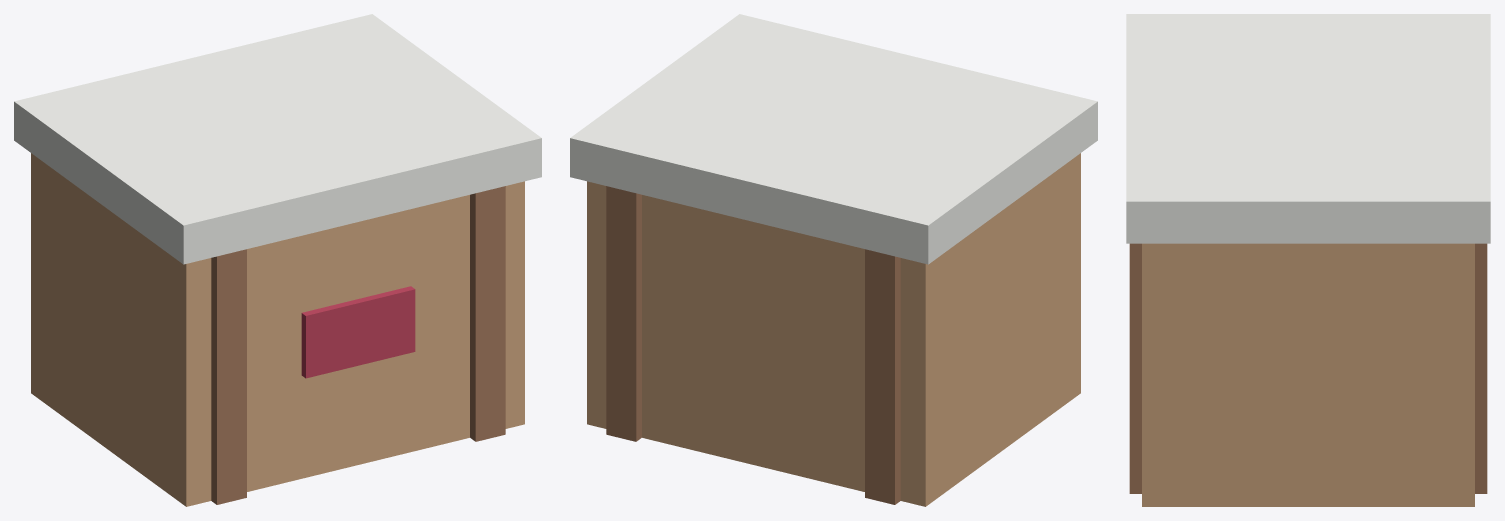
The model's file is winter-hearth-village-winter-supply-crate-b577131e__21847.glb.
3 renders of one model, left to right at view 1: azimuth 30°, elevation 25°; view 2: azimuth 150°, elevation 25°; view 3: azimuth 270°, elevation 25°, orthographic. The views are drawn at different scales.
Visible parts, largest first — view 1: winter-supply-crate-cedar, winter-supply-crate-snow, winter-supply-crate-wood, winter-supply-crate-red; view 2: winter-supply-crate-cedar, winter-supply-crate-snow, winter-supply-crate-wood; view 3: winter-supply-crate-cedar, winter-supply-crate-snow, winter-supply-crate-wood.
Boxes of the visible parts, <box> form: winter-supply-crate-cedar: <box>31,153,524,506</box>; winter-supply-crate-snow: <box>14,14,541,264</box>; winter-supply-crate-wood: <box>211,186,505,504</box>; winter-supply-crate-red: <box>301,286,415,378</box>; winter-supply-crate-cedar: <box>587,153,1080,506</box>; winter-supply-crate-snow: <box>570,14,1097,264</box>; winter-supply-crate-wood: <box>606,186,900,504</box>; winter-supply-crate-cedar: <box>1142,243,1474,506</box>; winter-supply-crate-snow: <box>1126,14,1490,243</box>; winter-supply-crate-wood: <box>1129,243,1487,493</box>.
Size of the model in its own units: 0.72 by 0.555 by 0.59.
